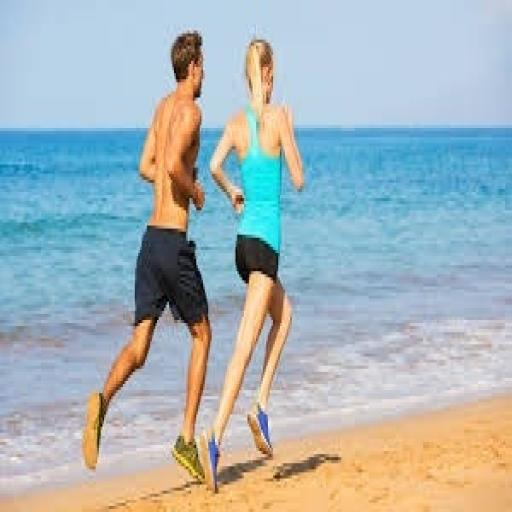running: (80, 28, 214, 488), (198, 34, 307, 496)
